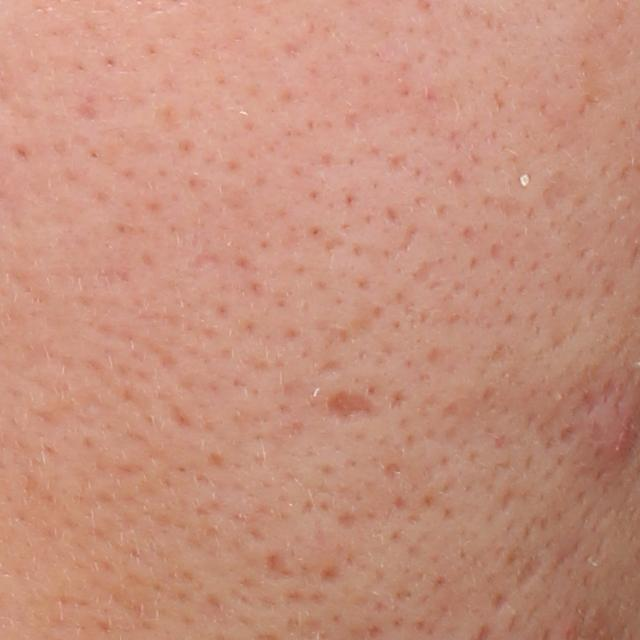atrophic_scar: (539, 171, 588, 217), (509, 550, 542, 597), (328, 391, 379, 421), (383, 459, 404, 479)
